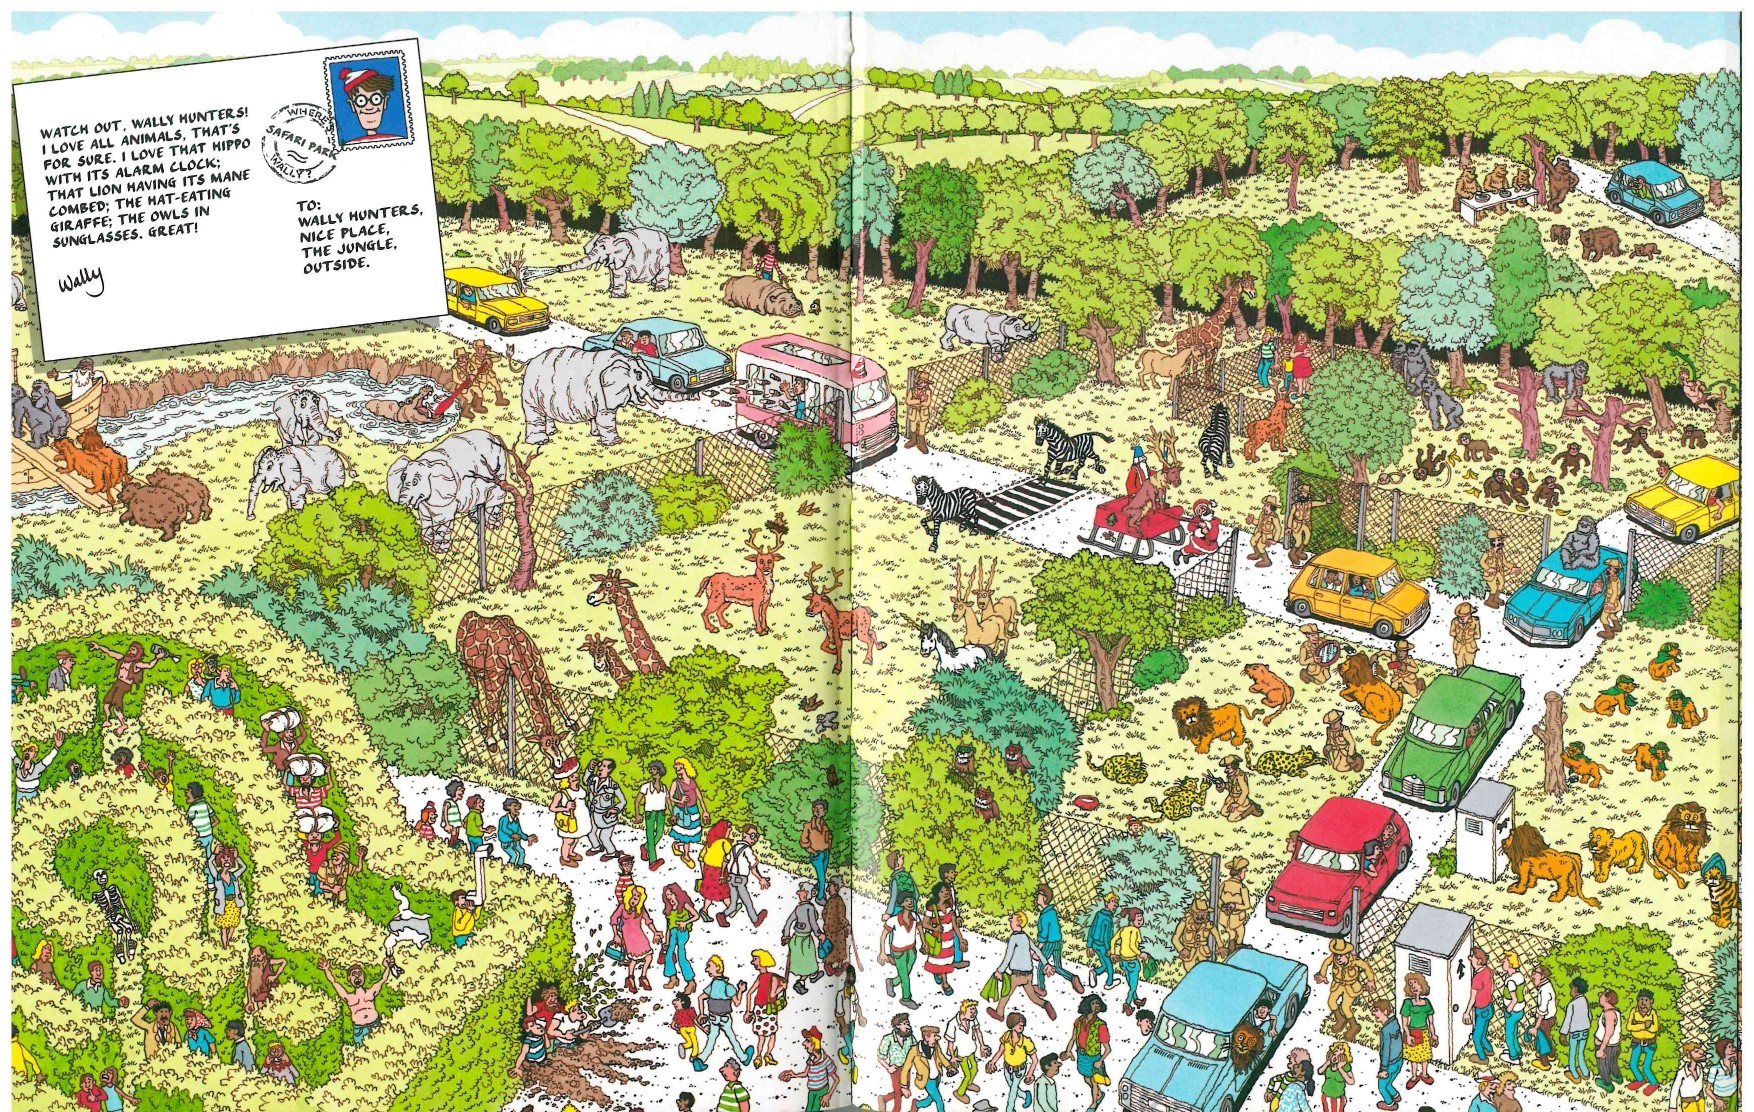waldos: (338, 66, 407, 141), (753, 239, 791, 290)
